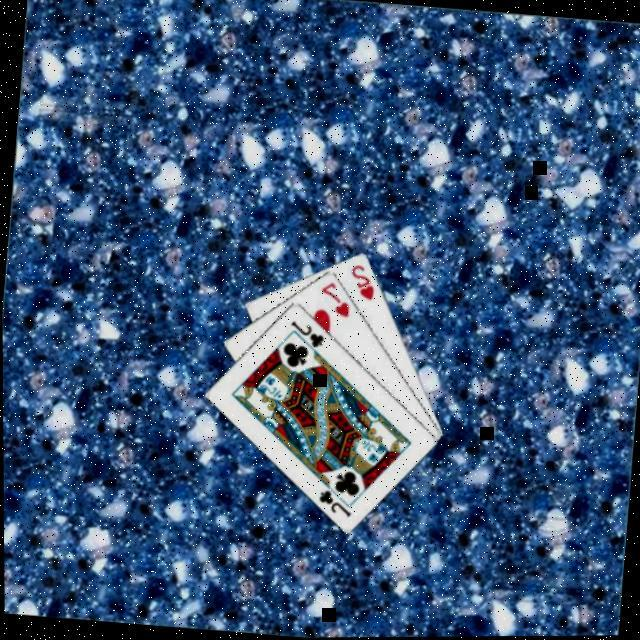2H: (346, 263, 379, 304)
7H: (318, 278, 355, 320)
JC: (286, 319, 328, 352), (315, 487, 356, 520)
